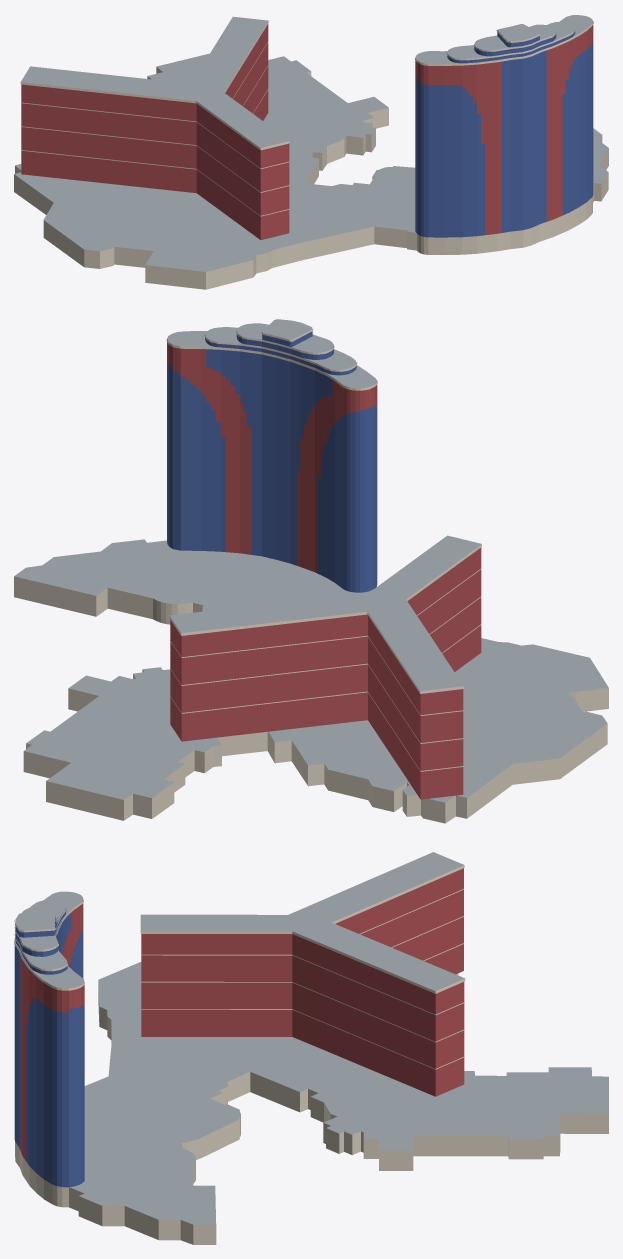
Rendered from lv-rio.glb.
3 views of the same model, one above another, from view 1: azimuth 30°, elevation 25°; view 2: azimuth 150°, elevation 25°; view 3: azimuth 270°, elevation 25° (orthographic). The views are drawn at different scales.
Parts seen in each view (by area): view 1: Rio; view 2: Rio; view 3: Rio.
Part boxes in pixels (x1,y1,x2,y2): Rio: [14, 15, 608, 289]; Rio: [14, 319, 608, 823]; Rio: [14, 852, 608, 1244].
Size of the model in its own units: 358 by 140 by 318.
